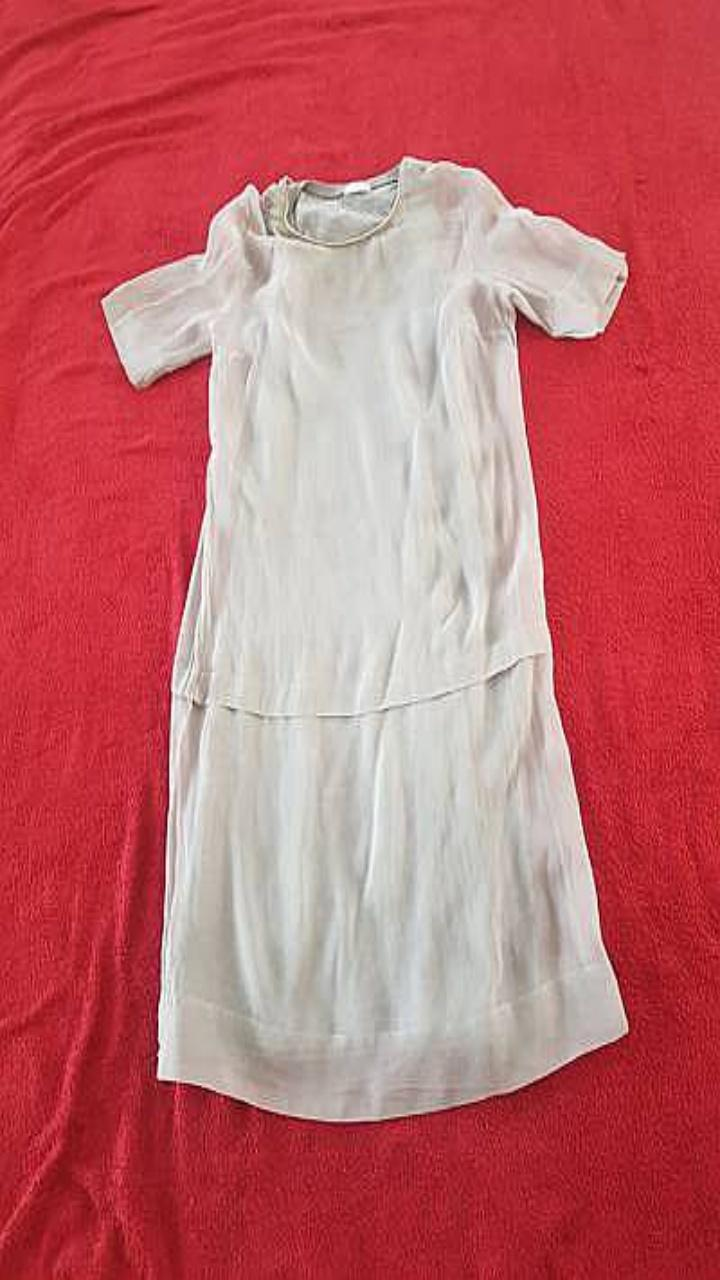Dresses: (102, 156, 627, 1119)
